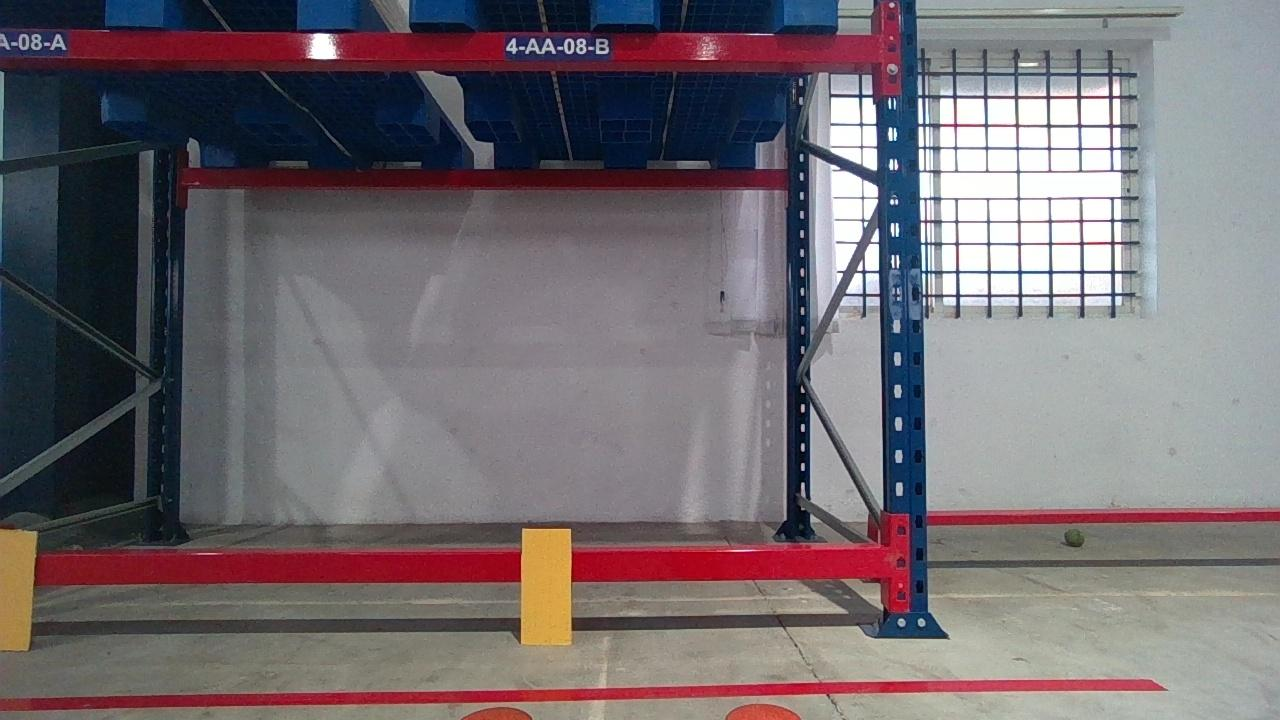h_rack: (37, 542, 894, 578), (3, 29, 880, 62)
orange_strip: (518, 527, 572, 642), (0, 528, 36, 650)
red_line: (0, 675, 1172, 712)
small_pallet: (407, 0, 837, 27), (1, 0, 356, 27)
